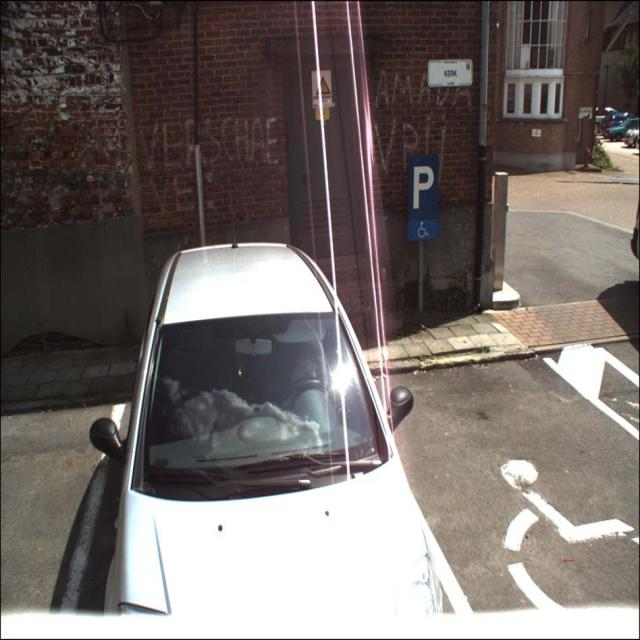park: (408, 154, 438, 219)
